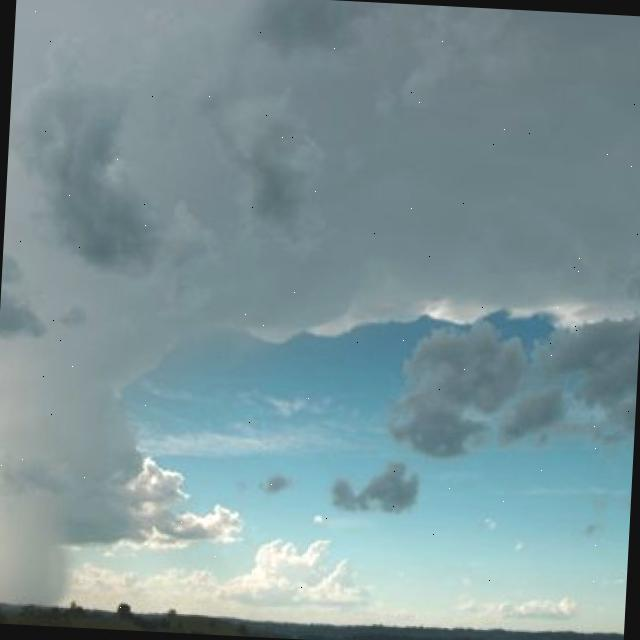Cb: (1, 63, 640, 540)
